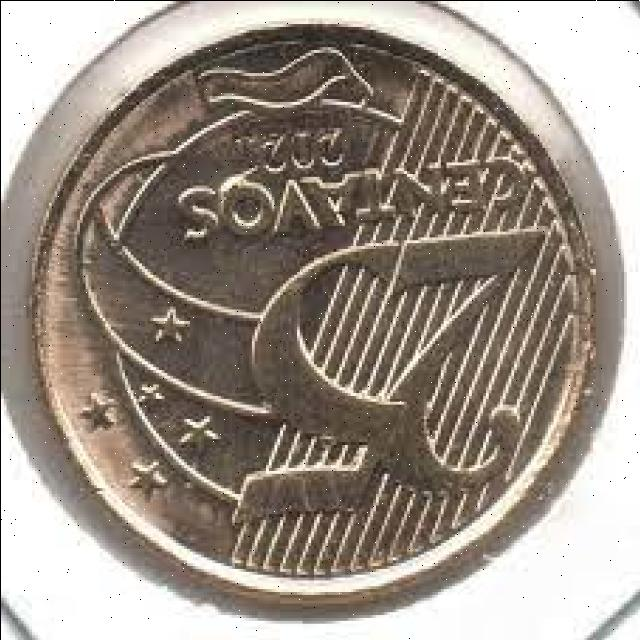25 cent: (42, 56, 572, 596)
